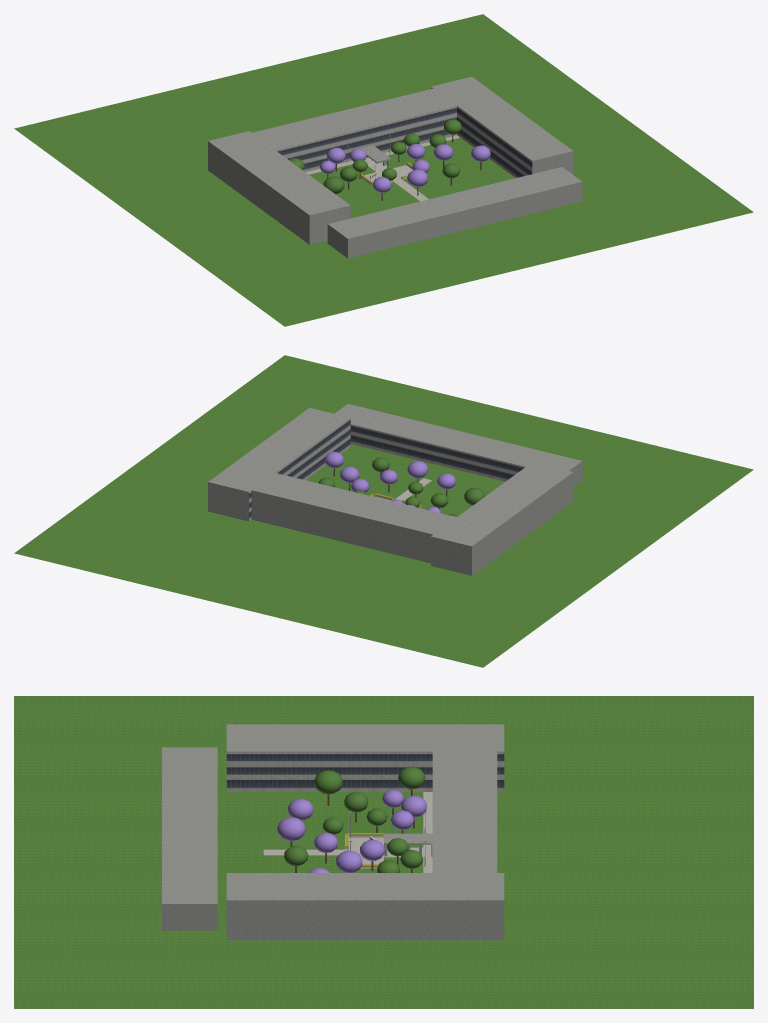
Rendered from pasillo_upiicsa.glb.
The picture shows the model from 3 angles, top to bottom: view 1: azimuth 30°, elevation 25°; view 2: azimuth 150°, elevation 25°; view 3: azimuth 270°, elevation 25°; orthographic projection. The views are drawn at different scales.
Parts seen in each view (by area): view 1: pasillo_upiicsa, arboles; view 2: pasillo_upiicsa, arboles; view 3: pasillo_upiicsa, arboles.
Part boxes in pixels (left/top/right/bottom): pasillo_upiicsa: left=14, top=14, right=753, bottom=326; arboles: left=289, top=119, right=490, bottom=194; pasillo_upiicsa: left=14, top=355, right=753, bottom=667; arboles: left=318, top=451, right=484, bottom=516; pasillo_upiicsa: left=14, top=696, right=753, bottom=1008; arboles: left=277, top=766, right=426, bottom=872.
Size of the model in its own units: 160 by 9.6 by 160.
47 materials, 6 textured.
